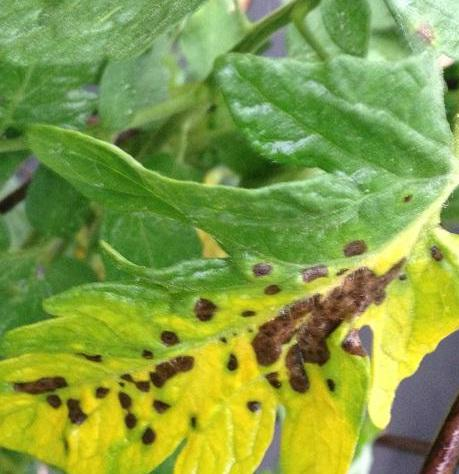Tomato leaf bacterial spot: (0, 195, 459, 474)
